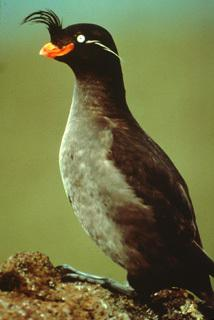005.Crested_Auklet: (19, 9, 214, 307)
